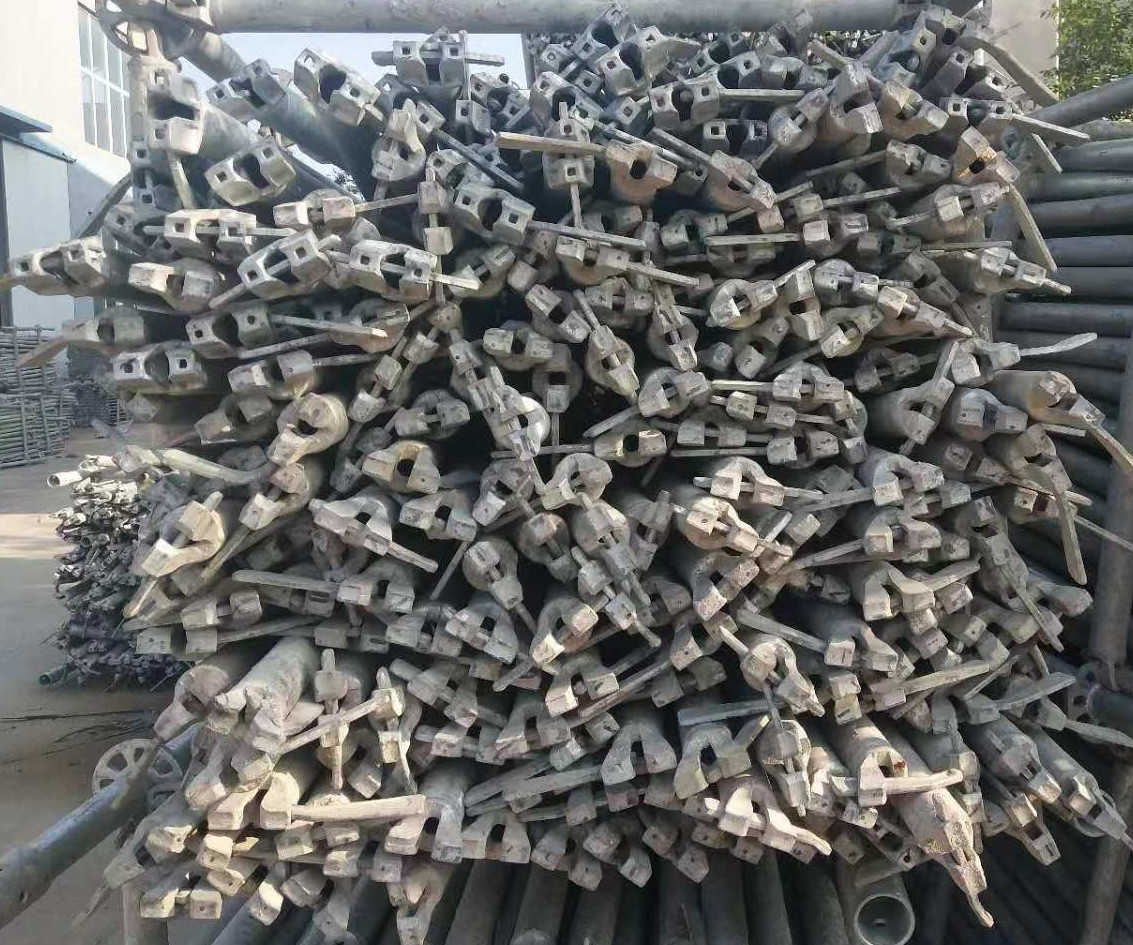NHsquare_steel: (137, 501, 213, 578), (179, 754, 273, 810), (153, 668, 222, 741), (232, 464, 304, 531), (1031, 366, 1106, 429), (266, 393, 329, 468), (205, 866, 283, 926), (738, 646, 809, 708), (204, 700, 284, 755), (284, 872, 348, 940), (310, 502, 391, 555), (225, 350, 315, 397), (640, 822, 706, 886), (442, 610, 517, 666), (583, 826, 649, 889), (1004, 795, 1061, 867), (690, 556, 757, 617), (1063, 781, 1130, 842), (529, 603, 598, 662), (676, 743, 750, 798), (587, 324, 641, 399), (464, 542, 525, 608), (365, 109, 420, 182), (998, 739, 1061, 802), (709, 151, 775, 211), (762, 723, 810, 805), (879, 78, 948, 135), (582, 558, 637, 629), (895, 379, 955, 444), (664, 614, 736, 668), (644, 660, 725, 708), (683, 502, 757, 554), (549, 714, 620, 768), (344, 357, 402, 423), (409, 670, 476, 727), (140, 824, 233, 865), (818, 304, 886, 360), (601, 141, 677, 191), (361, 448, 439, 496), (522, 286, 590, 341), (123, 262, 212, 304), (382, 815, 458, 864), (582, 504, 633, 577), (194, 398, 273, 445), (526, 513, 579, 583), (719, 802, 793, 852), (881, 627, 947, 683), (1018, 426, 1071, 495), (959, 126, 1023, 183), (530, 840, 601, 891), (316, 740, 380, 796), (398, 499, 477, 544), (386, 873, 435, 945), (98, 841, 170, 890), (309, 666, 352, 748), (182, 591, 264, 634), (137, 565, 206, 616), (447, 245, 517, 295), (274, 819, 363, 858), (832, 65, 880, 137), (876, 286, 948, 334), (445, 339, 493, 411), (636, 371, 712, 416), (979, 610, 1040, 666), (736, 315, 791, 377), (473, 459, 526, 523), (806, 784, 878, 831), (1034, 585, 1092, 643), (762, 513, 820, 571), (317, 846, 403, 885), (977, 243, 1045, 292), (935, 614, 987, 678), (248, 518, 313, 569), (545, 458, 614, 506), (542, 668, 619, 711), (769, 88, 828, 144), (900, 249, 960, 304), (490, 387, 537, 457), (917, 5, 1001, 44), (457, 824, 533, 867), (597, 739, 673, 782), (714, 278, 778, 328), (383, 618, 461, 659), (882, 137, 953, 182), (208, 794, 292, 832), (948, 339, 1022, 382), (692, 824, 764, 868), (559, 783, 640, 822), (495, 715, 572, 756), (872, 459, 942, 504), (273, 194, 358, 231), (402, 304, 458, 360), (413, 177, 453, 255), (551, 237, 633, 275), (858, 576, 934, 617), (340, 572, 416, 613), (912, 583, 973, 634), (705, 468, 786, 506), (506, 229, 554, 292), (312, 618, 389, 657), (373, 685, 411, 764), (947, 747, 987, 822), (972, 494, 1013, 567), (826, 634, 897, 676), (425, 729, 501, 768), (723, 390, 795, 431), (64, 314, 148, 349), (835, 173, 896, 221), (786, 264, 823, 342), (261, 578, 335, 617), (834, 684, 905, 724), (132, 890, 223, 921), (655, 306, 700, 368), (537, 341, 574, 416), (830, 396, 870, 465), (954, 396, 1028, 433), (937, 182, 1002, 224), (635, 502, 675, 570), (863, 519, 936, 556), (930, 693, 999, 732), (393, 400, 469, 435), (134, 627, 219, 658), (765, 431, 838, 467), (854, 350, 921, 389), (590, 427, 669, 460), (943, 443, 1008, 483), (753, 193, 825, 229), (481, 325, 551, 362), (787, 567, 850, 608), (761, 6, 814, 54), (1004, 692, 1069, 730), (799, 212, 872, 245), (899, 482, 972, 515), (582, 283, 656, 315), (815, 818, 862, 868), (773, 371, 844, 404), (675, 421, 750, 452), (813, 262, 880, 296), (573, 199, 643, 231), (656, 213, 727, 243), (852, 230, 925, 259), (763, 55, 823, 88), (703, 240, 778, 266), (1013, 491, 1075, 522)
THsquare_steel: (291, 45, 380, 123), (207, 135, 293, 207), (2, 235, 103, 291), (144, 63, 204, 157), (451, 181, 535, 245), (208, 57, 282, 118), (188, 304, 267, 356), (375, 78, 443, 137), (599, 27, 663, 87), (528, 72, 601, 124), (111, 349, 200, 391), (573, 4, 634, 57), (538, 42, 600, 93), (649, 75, 720, 119), (943, 51, 1009, 97), (268, 302, 344, 341), (865, 820, 921, 870), (423, 151, 486, 189), (691, 28, 745, 70), (699, 117, 766, 148), (950, 97, 1017, 127), (711, 52, 760, 90)
THsquare_steel_blocked: (239, 234, 331, 298), (349, 239, 435, 301), (160, 207, 256, 255), (543, 116, 599, 193), (102, 205, 175, 258), (123, 139, 166, 220), (391, 37, 466, 83), (466, 70, 524, 121), (888, 26, 938, 81), (451, 95, 487, 151)
circle_steel: (848, 894, 919, 945)
